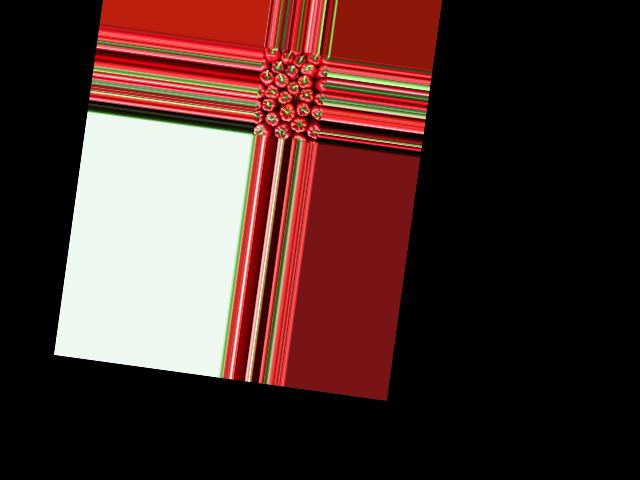bell_pepper: (263, 47, 279, 63)
